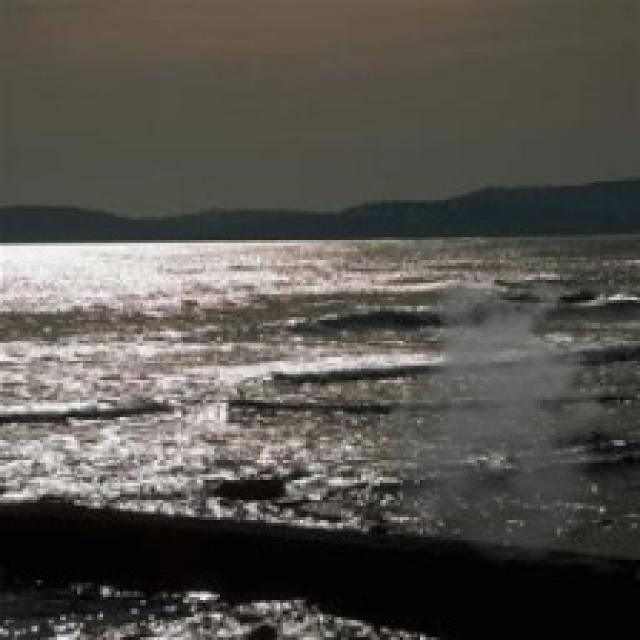smoke: (372, 283, 634, 566)
